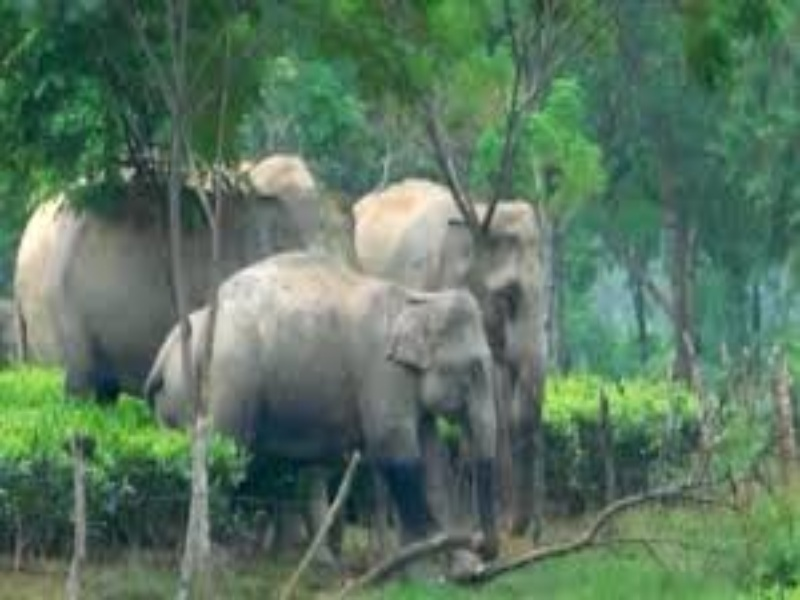elephant: (143, 264, 523, 573)
